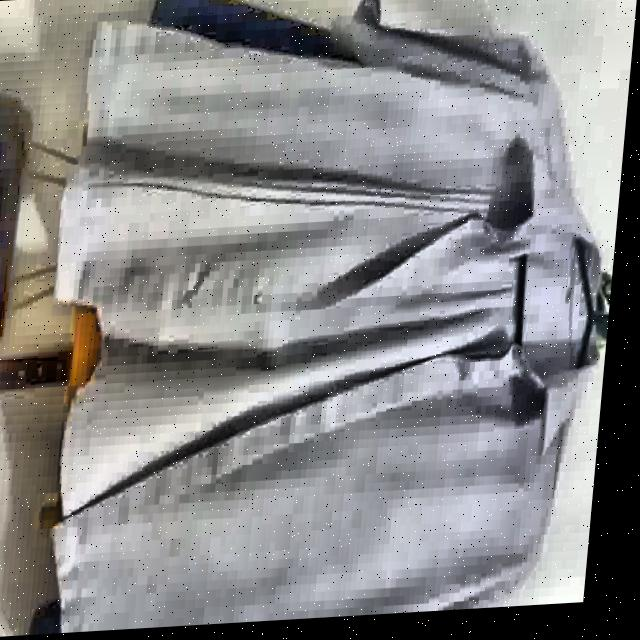clothes: (21, 0, 637, 632)
